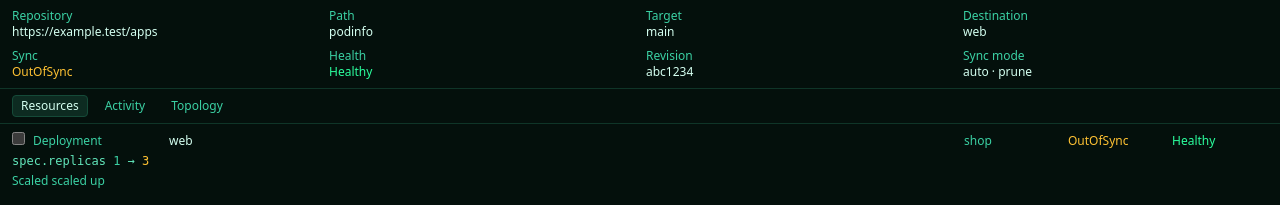
Test: the per-application panel › unmarks a resource that was marked
What coordinates should you click on to do the following:
click the checkbox named "Mark Deployment web"
I would click on:
 (18, 138)
Its box is [12, 132, 25, 145].
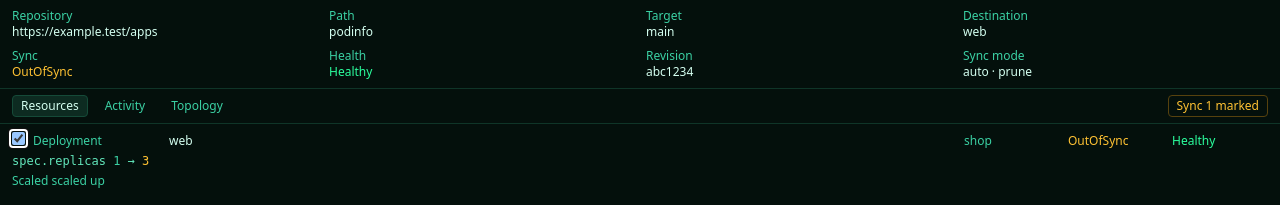
What coordinates should you click on to do the following:
click the checkbox named "Mark Deployment web"
I would click on:
 (18, 138)
Its box is [12, 132, 25, 145].
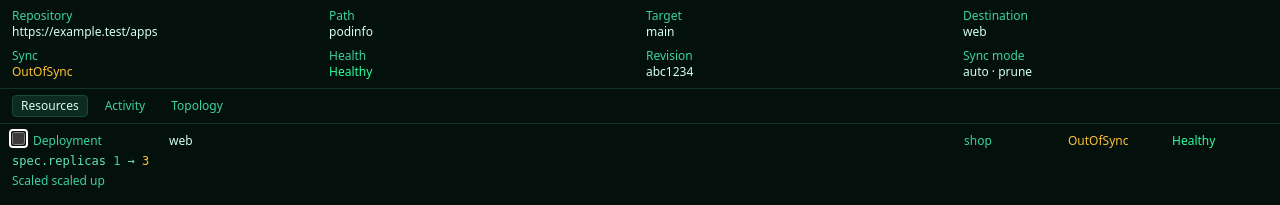
Check: the button "marked" is gone
